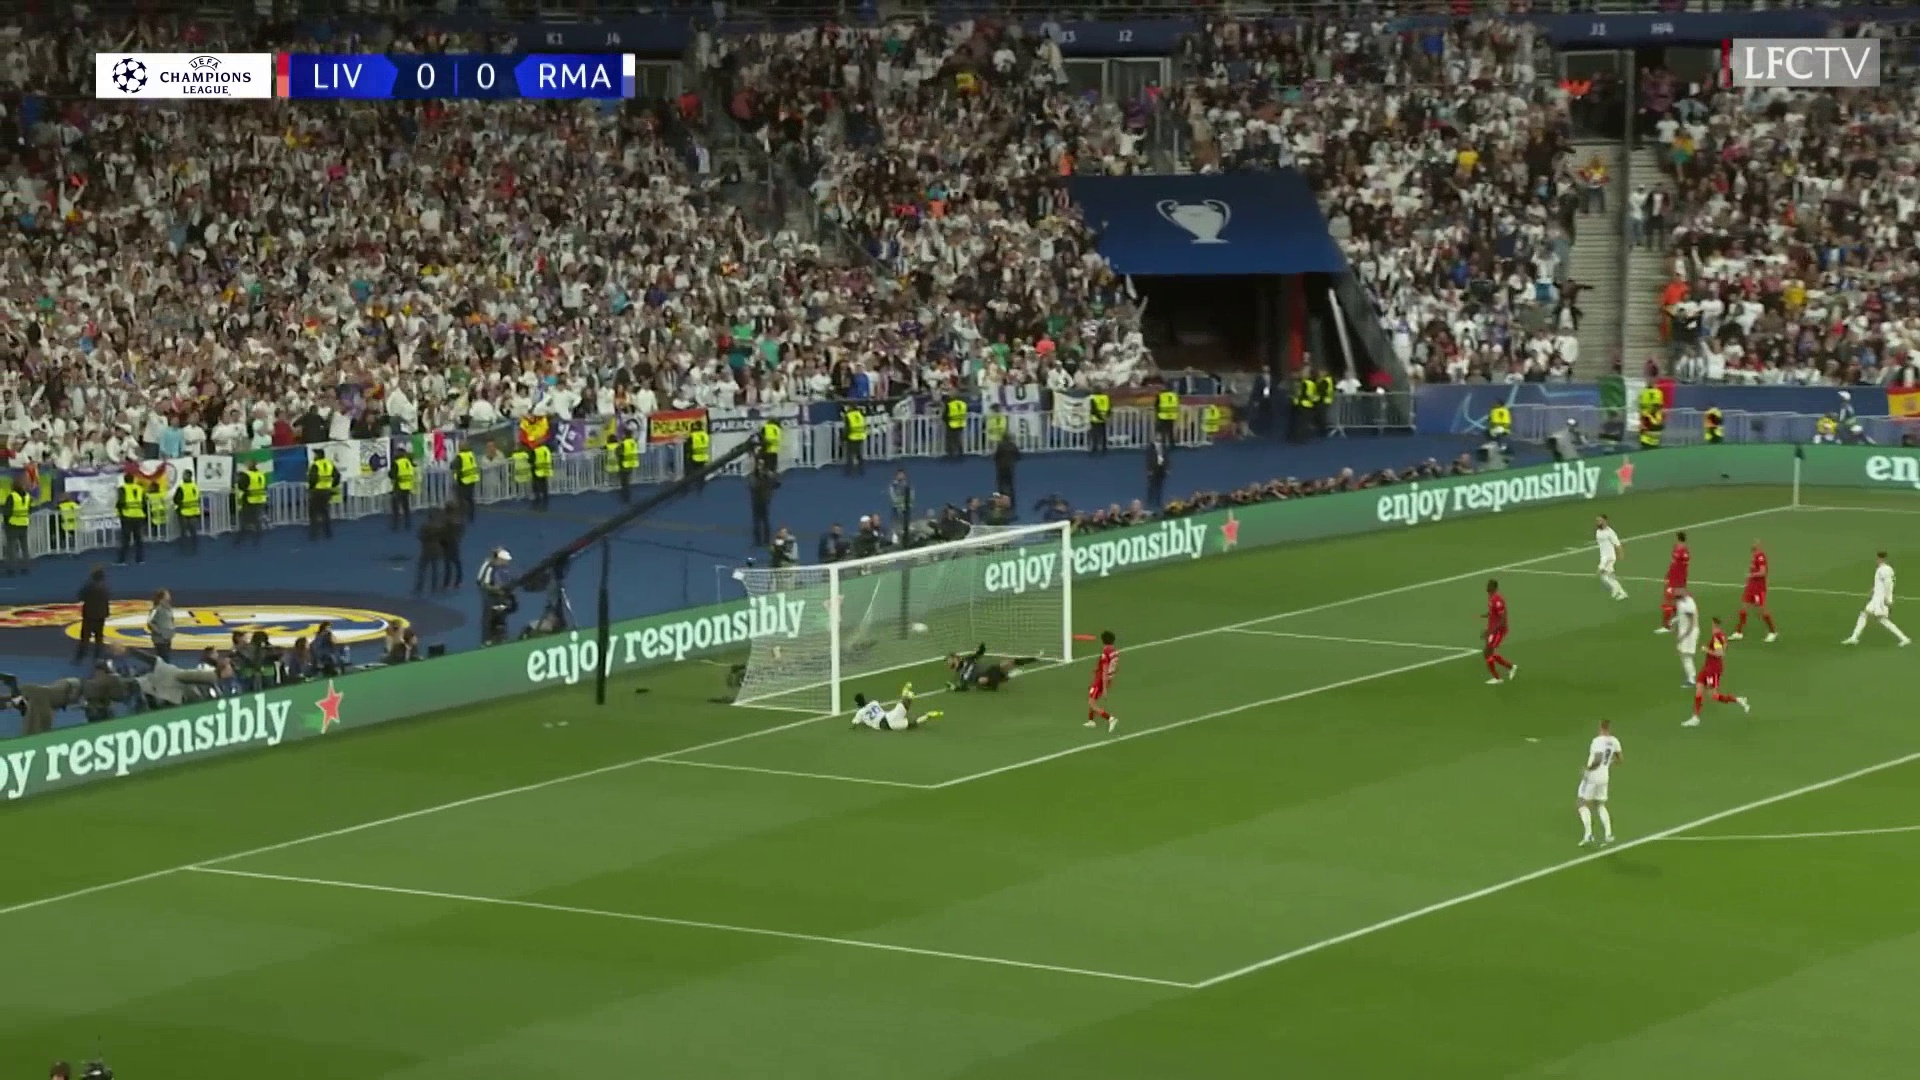ball: (905, 616, 929, 642)
player 1: (1842, 549, 1911, 662)
player 12: (942, 640, 1050, 698)
player 13: (1668, 521, 1694, 578)
player 14: (1088, 631, 1133, 741)
player 15: (1733, 532, 1797, 644)
player 16: (1476, 569, 1526, 689)
player 17: (1692, 612, 1748, 730)
player 2: (1580, 506, 1638, 612)
player 3: (849, 679, 933, 735)
player 4: (1661, 593, 1696, 674)
player 5: (1575, 711, 1627, 851)
